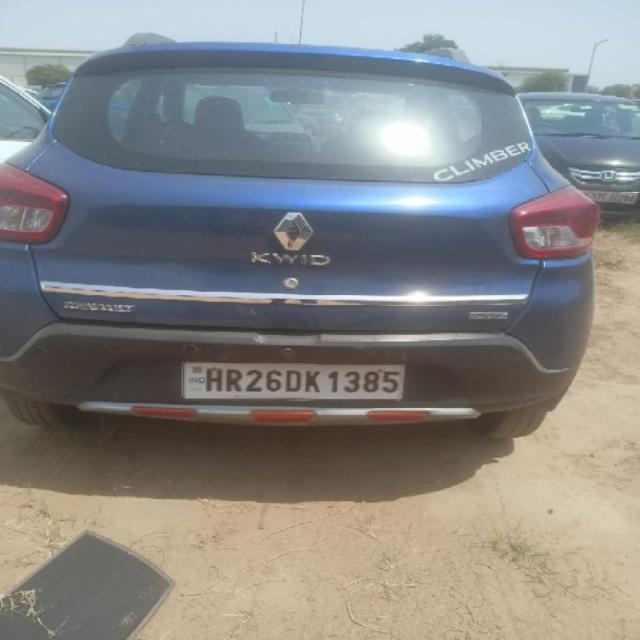license_plate: (179, 360, 406, 401)
